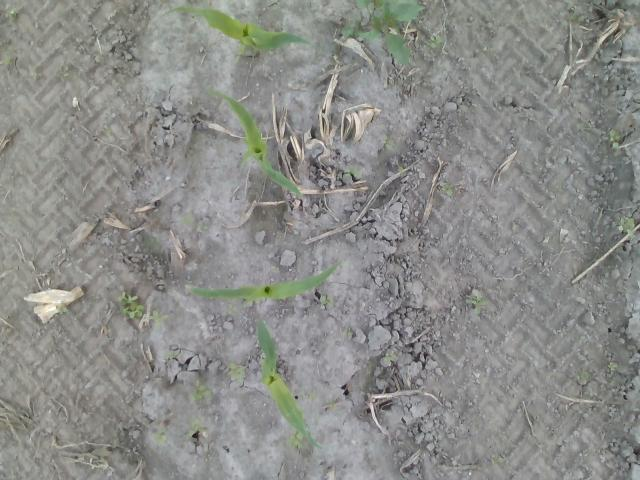Maize: (204, 86, 305, 199), (148, 5, 318, 65), (256, 316, 327, 450), (184, 258, 344, 308)
Weeds: (338, 0, 427, 70), (118, 290, 171, 331), (466, 292, 489, 316), (188, 380, 210, 404), (226, 361, 248, 383), (285, 430, 306, 450), (603, 130, 622, 151), (186, 417, 204, 439), (618, 218, 636, 236), (102, 125, 116, 146), (150, 432, 168, 448), (429, 35, 444, 52), (343, 166, 361, 180), (381, 135, 396, 150), (439, 181, 453, 197), (576, 370, 590, 385), (318, 295, 334, 308), (177, 213, 194, 225), (297, 390, 317, 400), (3, 54, 15, 69), (164, 348, 178, 360), (59, 64, 70, 78), (569, 13, 586, 22), (609, 360, 619, 374), (384, 352, 396, 363), (341, 330, 354, 340), (8, 8, 16, 24), (56, 306, 68, 316), (196, 221, 207, 230), (28, 70, 38, 78), (498, 458, 508, 466), (328, 400, 334, 412), (396, 166, 404, 171)
